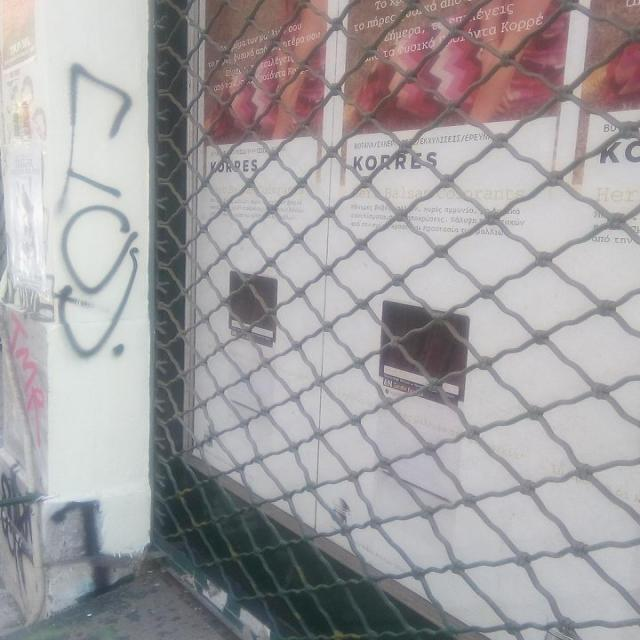nonspitting: (61, 60, 138, 362), (0, 456, 133, 602), (7, 314, 46, 414)
